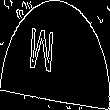M_S: (41, 27, 69, 83)
